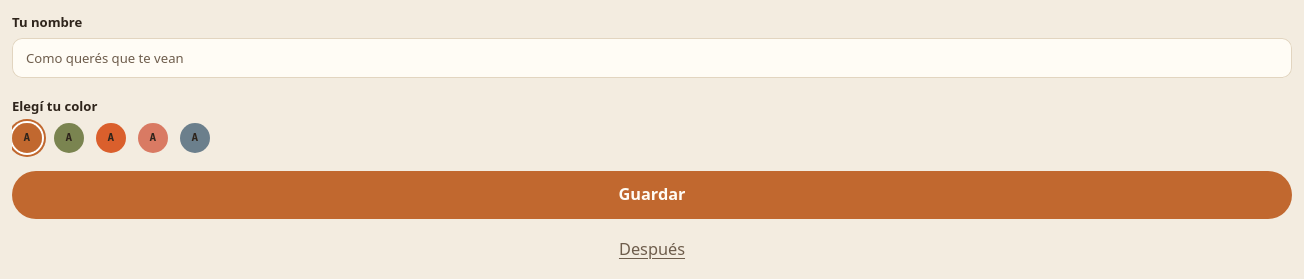
Scenario: FirstRunForm › shows the busy label and disables both buttons while Después is pending
Click the button "Después" at (652, 249), box [12,237,1292,262]
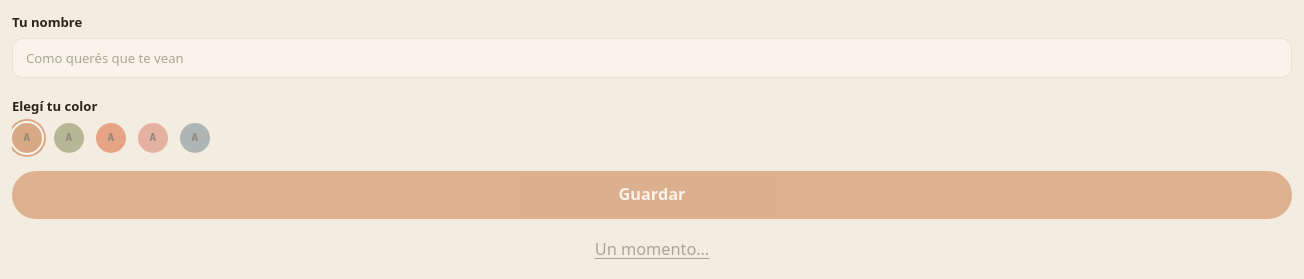
expect the button "Un momento…" is disabled: met, box [12,237,1292,262]
